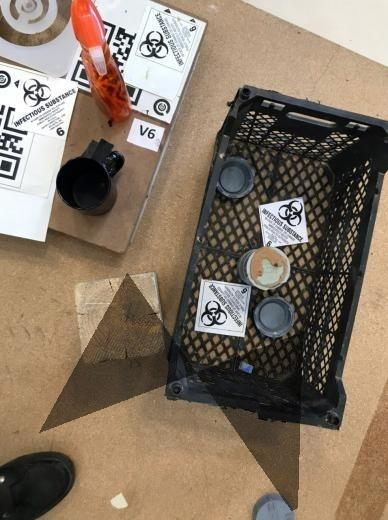infectious-substance: (6, 72, 76, 139), (133, 10, 198, 69), (197, 280, 247, 336), (261, 198, 307, 246)
